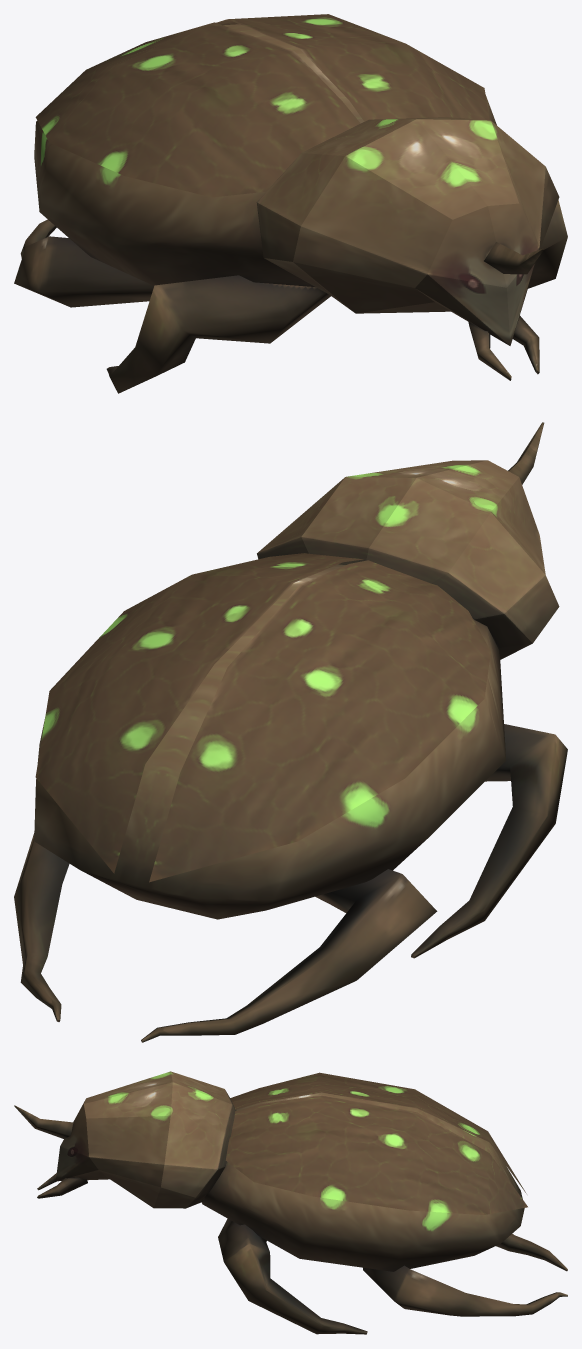
File: Beetle Static.fbx
The picture shows the model from 3 angles, top to bottom: view 1: azimuth 30°, elevation 25°; view 2: azimuth 150°, elevation 25°; view 3: azimuth 270°, elevation 25°; orthographic projection. The views are drawn at different scales.
Parts seen in each view (by area): view 1: Beetle_Static; view 2: Beetle_Static; view 3: Beetle_Static.
Part boxes in pixels (x1=…): Beetle_Static: x1=14, y1=14, x2=567, y2=393; Beetle_Static: x1=14, y1=422, x2=567, y2=1042; Beetle_Static: x1=14, y1=1071, x2=567, y2=1334.
Bounding box in the file's own units: 49.66 × 37.91 × 92.59.
